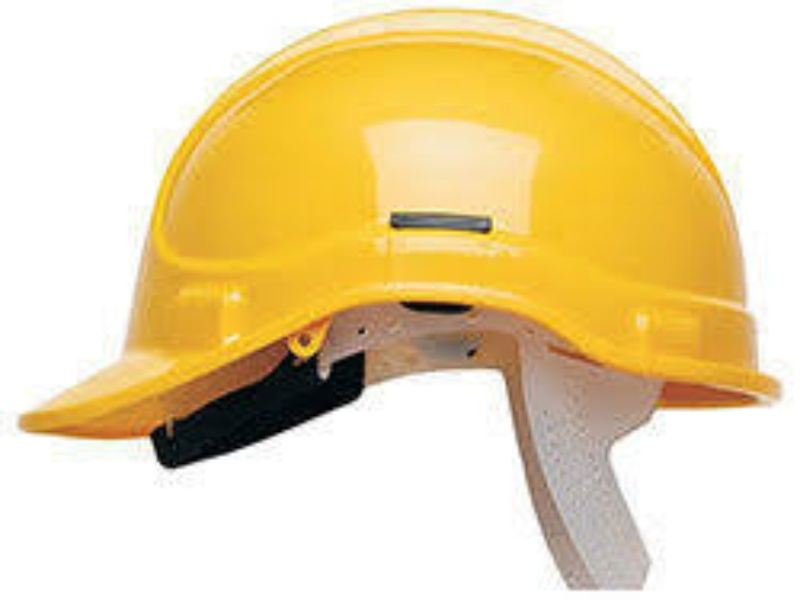helmet: (20, 7, 783, 439)
